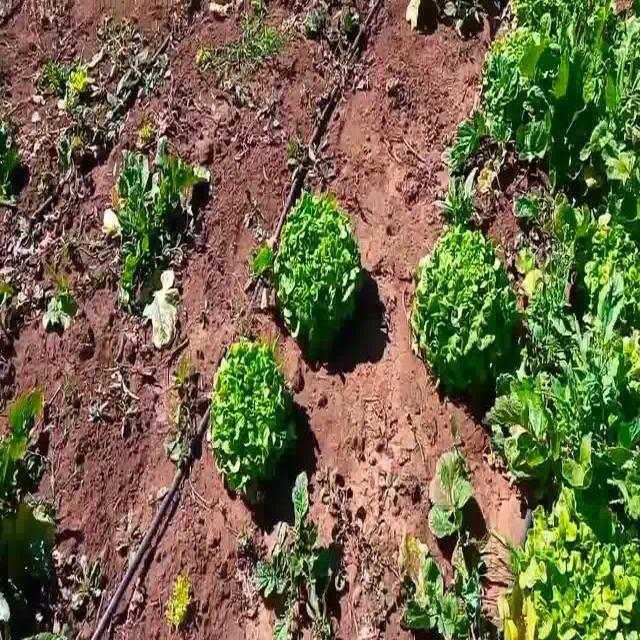Lettuce: (506, 495, 640, 640), (410, 225, 519, 392), (265, 191, 366, 350), (212, 338, 291, 505), (485, 26, 561, 66)
